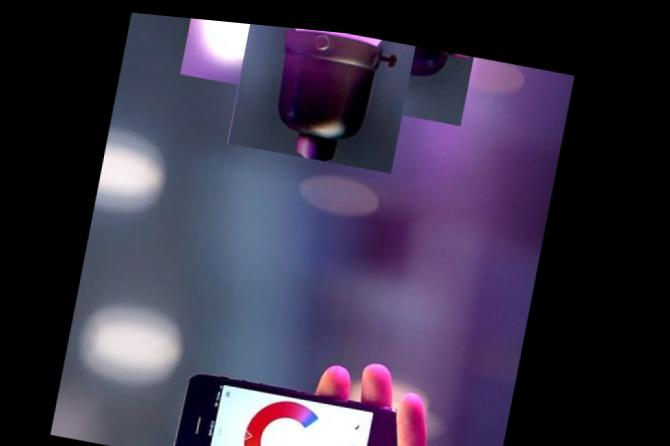Bulb: (202, 16, 445, 142)
